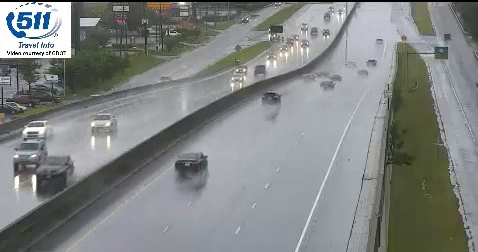car: (175, 152, 207, 174), (260, 91, 281, 105)
